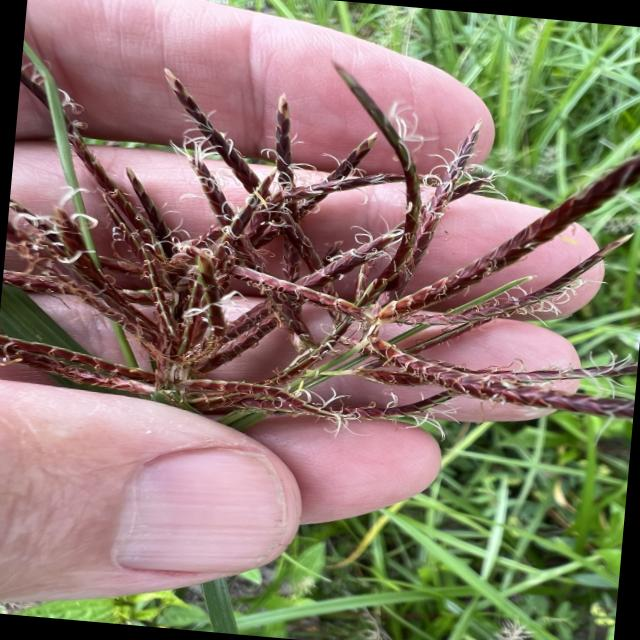cyperus: (0, 25, 640, 493)
